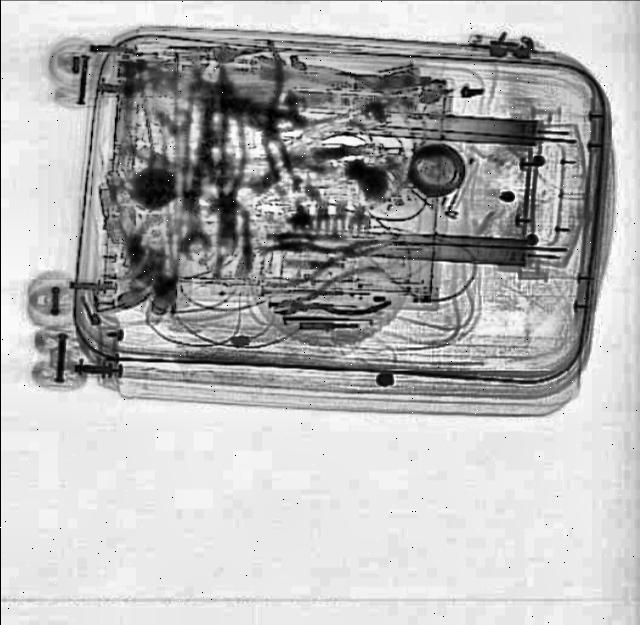Pliers: (263, 224, 397, 294), (270, 268, 396, 332)
Wrench: (170, 172, 216, 258)
